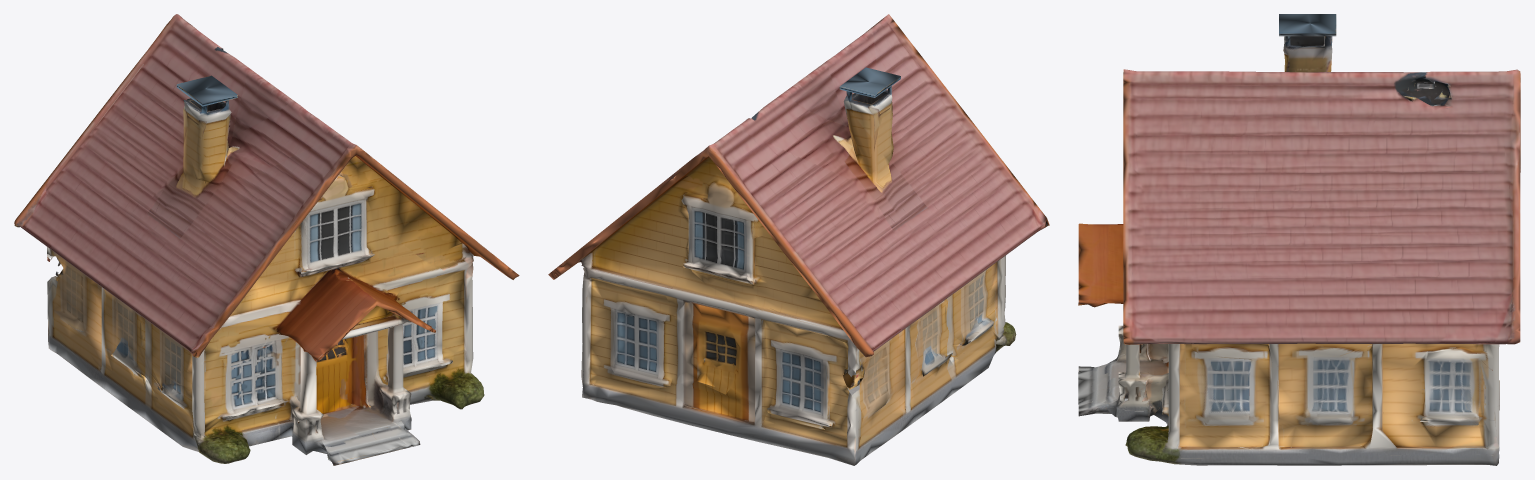
File: Meshy_AI_Cozy_Cottage_0112161711_texture.fbx
3 renders of one model, left to right at view 1: azimuth 30°, elevation 25°; view 2: azimuth 150°, elevation 25°; view 3: azimuth 270°, elevation 25°, orthographic. The views are drawn at different scales.
Parts seen in each view (by area): view 1: Mesh0; view 2: Mesh0; view 3: Mesh0.
Boxes of the visible parts, x1=… form: Mesh0: x1=14, y1=14, x2=519, y2=465; Mesh0: x1=548, y1=14, x2=1049, y2=465; Mesh0: x1=1078, y1=14, x2=1520, y2=465.
Size of the model in its own units: 179 by 160 by 191.
Materials: 1 (1 with a texture image).
